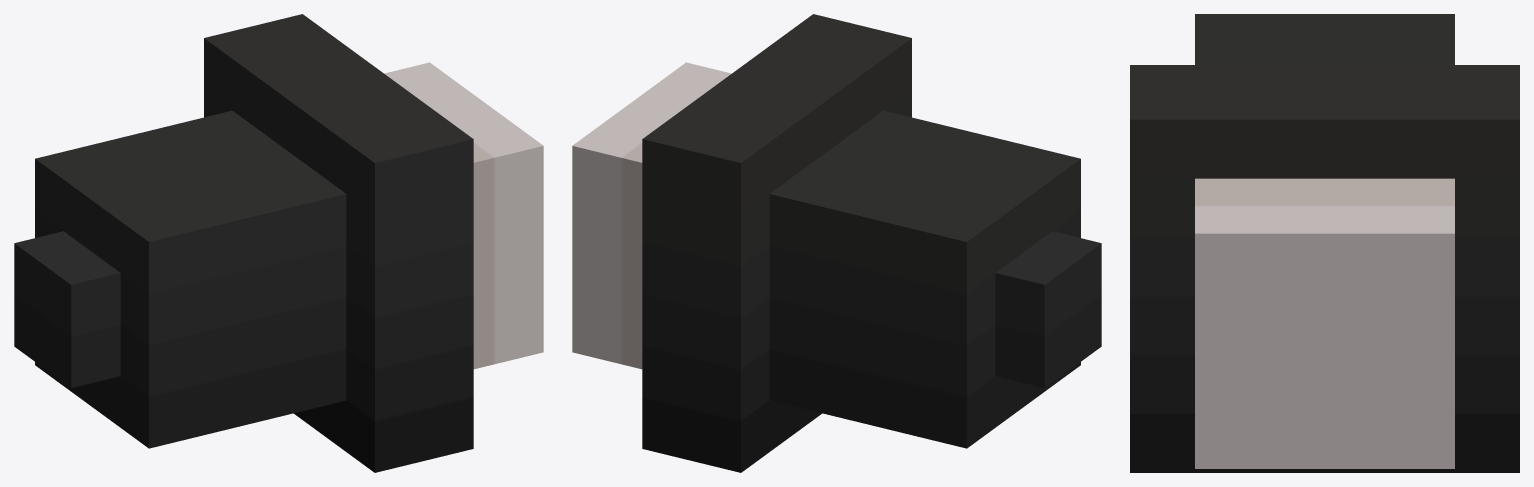
The model's file is Elbow056.fbx.
The picture shows the model from 3 angles, left to right: view 1: azimuth 30°, elevation 25°; view 2: azimuth 150°, elevation 25°; view 3: azimuth 270°, elevation 25°; orthographic projection. The views are drawn at different scales.
Parts seen in each view (by area): view 1: Elbow056; view 2: Elbow056; view 3: Elbow056.
Boxes of the visible parts, x1=… form: Elbow056: x1=14, y1=14, x2=543, y2=472; Elbow056: x1=572, y1=14, x2=1101, y2=472; Elbow056: x1=1130, y1=14, x2=1519, y2=472.
Bounding box in the file's own units: 9 × 6 × 6.
